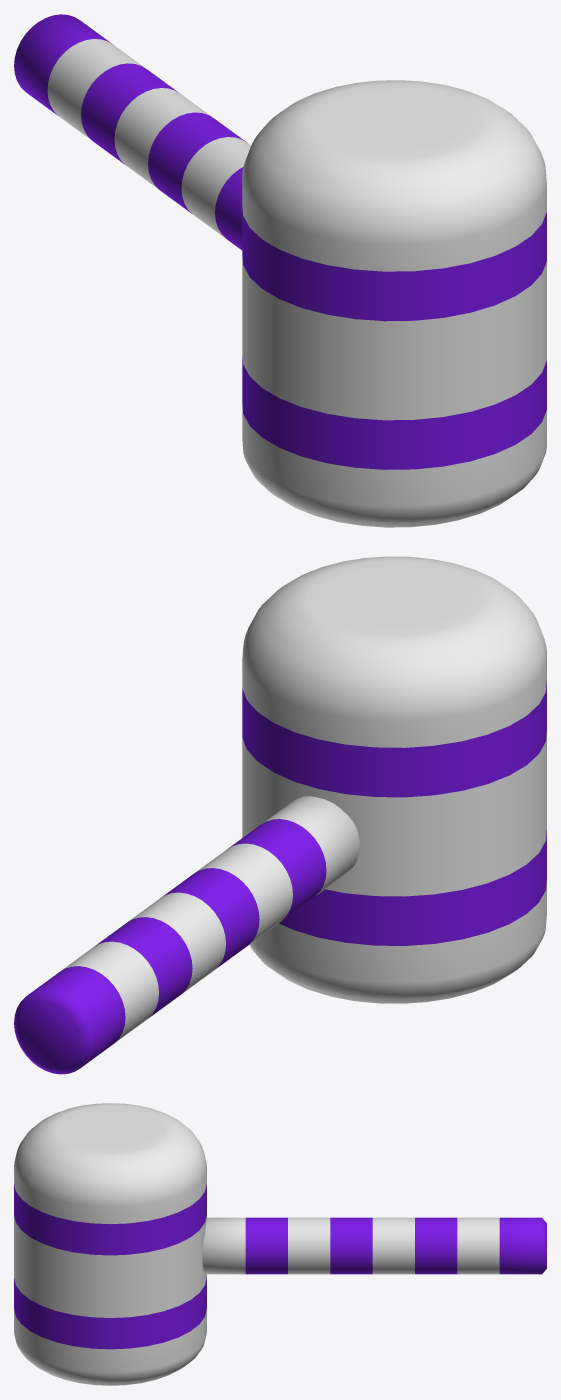
File: Obstacle2.fbx
The picture shows the model from 3 angles, top to bottom: view 1: azimuth 30°, elevation 25°; view 2: azimuth 150°, elevation 25°; view 3: azimuth 270°, elevation 25°; orthographic projection. The views are drawn at different scales.
Parts seen in each view (by area): view 1: Cylinder.001; view 2: Cylinder.001; view 3: Cylinder.001.
Part boxes in pixels (x1,y1,x2,y2): Cylinder.001: (14, 14, 546, 527); Cylinder.001: (14, 556, 546, 1074); Cylinder.001: (14, 1103, 546, 1385).
Size of the model in its own units: 200 by 258 by 552.
